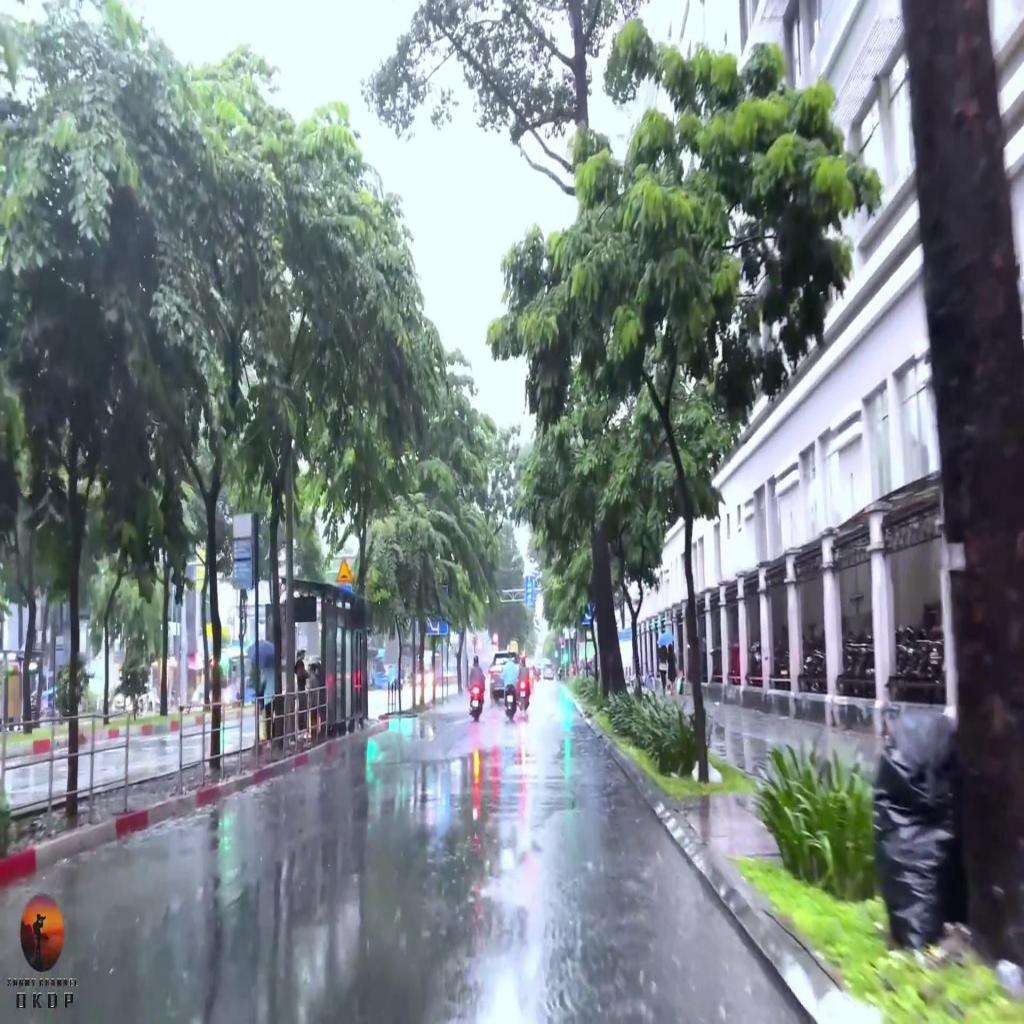duong_co_song_map_mo_nhan_tao: (336, 557, 354, 583)
khac: (525, 575, 534, 605)
